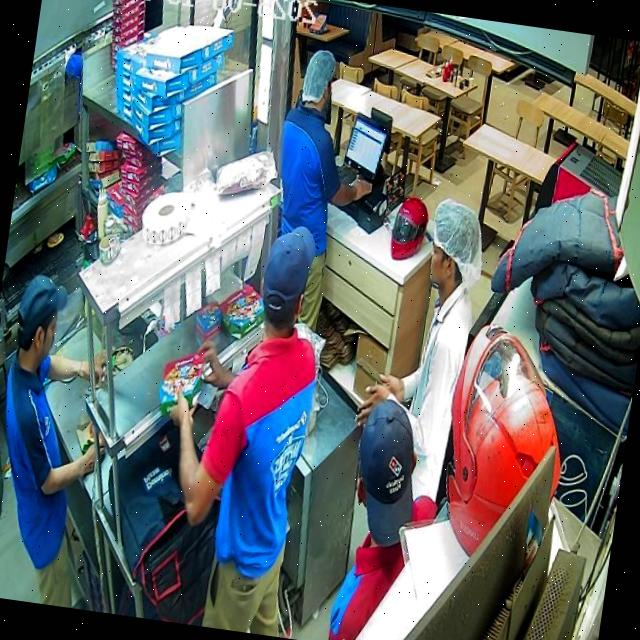helmet: (389, 196, 428, 260)
